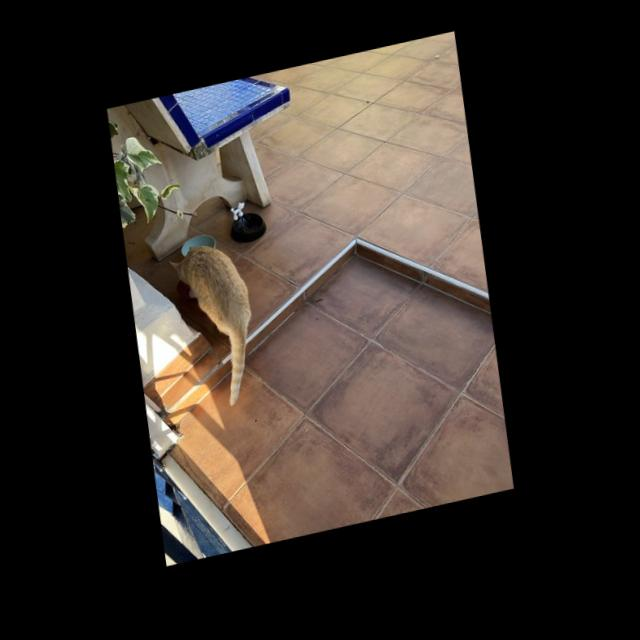animals: (165, 229, 279, 421)
